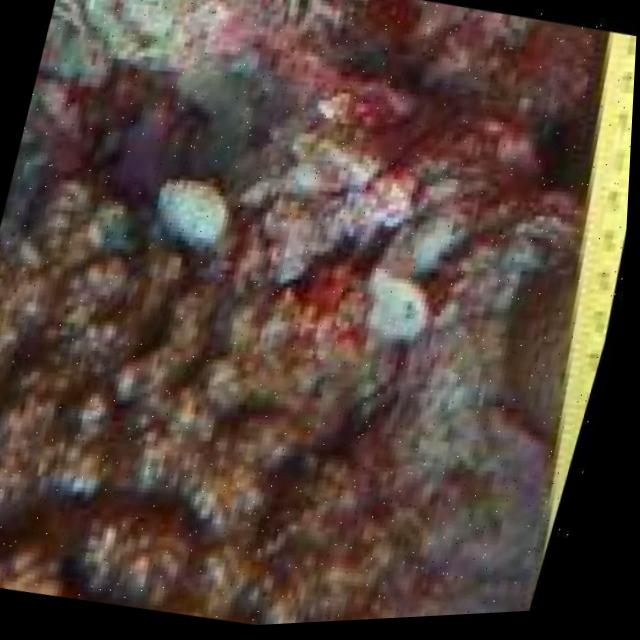Healthy Coral: (0, 155, 502, 640)
